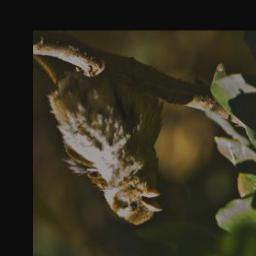Sparrow: (49, 66, 164, 226)
